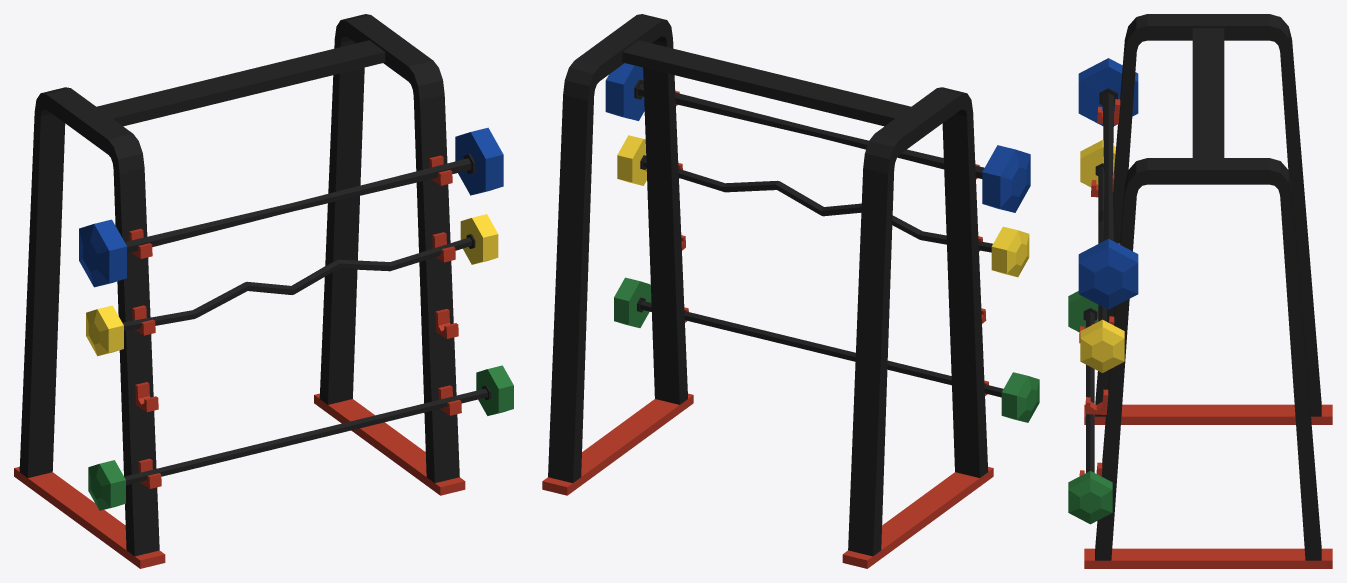
The model's file is Gia_ta.fbx.
The picture shows the model from 3 angles, left to right: view 1: azimuth 30°, elevation 25°; view 2: azimuth 150°, elevation 25°; view 3: azimuth 270°, elevation 25°; orthographic projection.
Parts seen in each view (by area): view 1: Mesh_gia_ta_2.003, Mesh_gia_ta_2.014, Mesh_gia_ta_2.012, Mesh_gia_ta_2.013; view 2: Mesh_gia_ta_2.003, Mesh_gia_ta_2.014, Mesh_gia_ta_2.012, Mesh_gia_ta_2.013; view 3: Mesh_gia_ta_2.003, Mesh_gia_ta_2.014, Mesh_gia_ta_2.012, Mesh_gia_ta_2.013.
Part boxes in pixels (x1,y1,x2,y2): Mesh_gia_ta_2.003: (14,14,465,568); Mesh_gia_ta_2.014: (79,127,503,287); Mesh_gia_ta_2.012: (88,365,513,510); Mesh_gia_ta_2.013: (86,214,498,356); Mesh_gia_ta_2.003: (542,14,993,568); Mesh_gia_ta_2.014: (605,63,1030,212); Mesh_gia_ta_2.012: (614,277,1039,422); Mesh_gia_ta_2.013: (617,135,1029,277); Mesh_gia_ta_2.003: (1079,14,1332,568); Mesh_gia_ta_2.014: (1078,58,1138,309); Mesh_gia_ta_2.012: (1068,291,1112,524); Mesh_gia_ta_2.013: (1080,140,1124,372).
Bounding box in the file's own units: 15.28 × 14.46 × 8.68.
